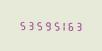five: (49, 19, 56, 31), (17, 19, 24, 30), (33, 19, 40, 30)
nine: (41, 19, 48, 30)
one: (57, 20, 64, 31)
six: (65, 20, 72, 31)
three: (25, 19, 32, 30), (73, 20, 80, 31)
